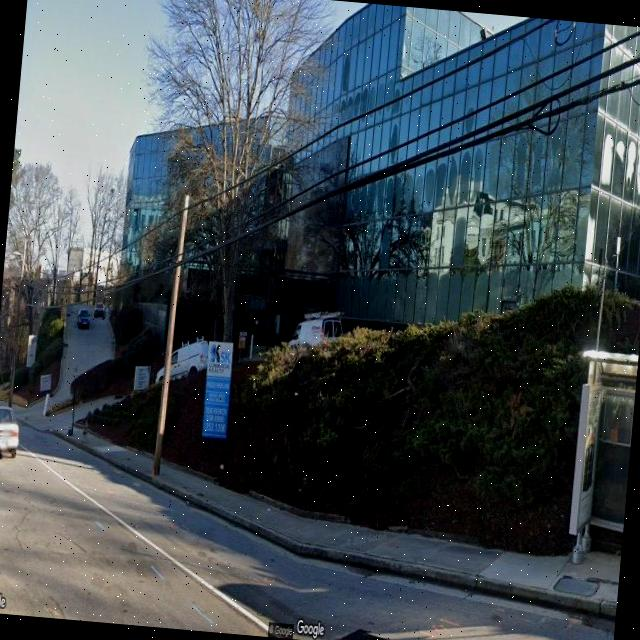shelter: (562, 345, 638, 568)
